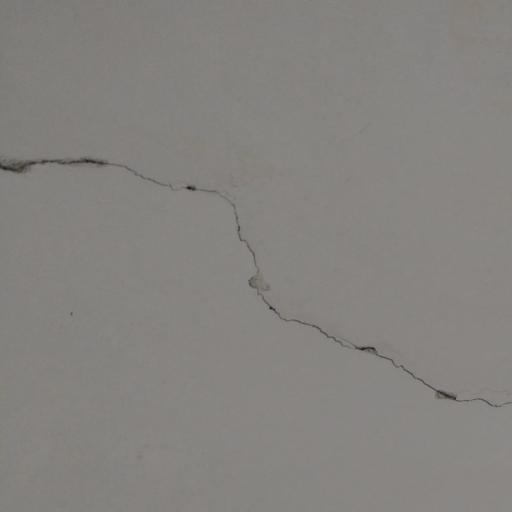major_crack: (0, 140, 512, 416)
